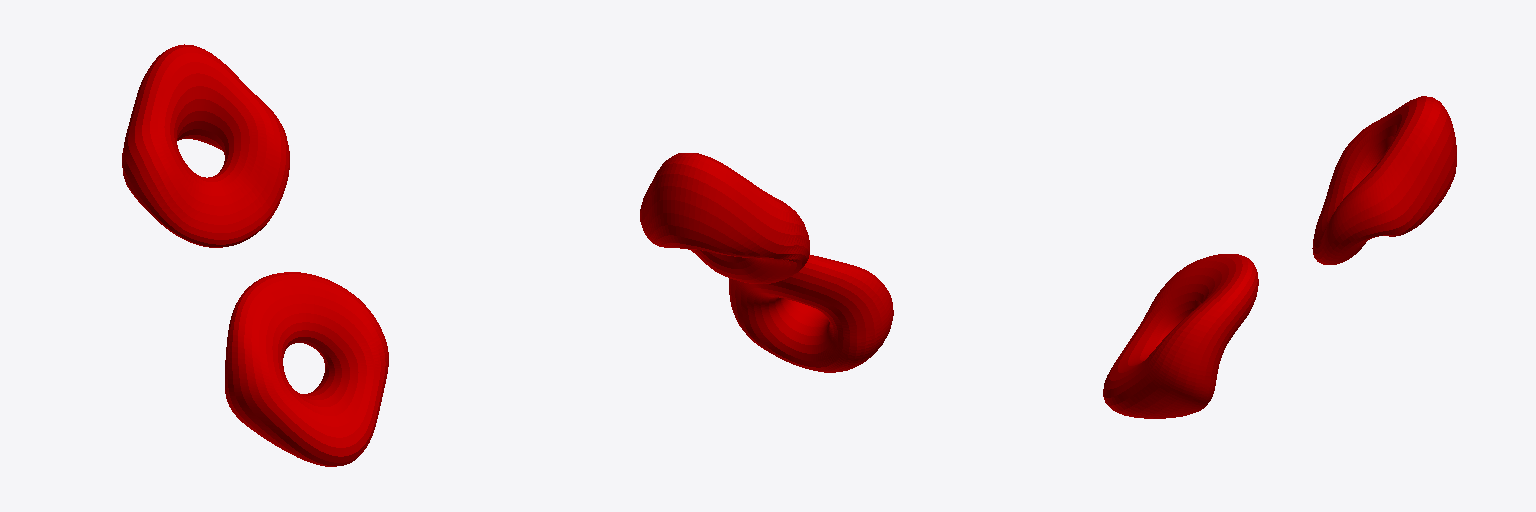
Rendered from (4)sex(r).obj.
3 views of the same model, side by side, from view 1: azimuth 30°, elevation 25°; view 2: azimuth 150°, elevation 25°; view 3: azimuth 270°, elevation 25° (orthographic).
Parts seen in each view (by area): view 1: red_Cylinder.009; view 2: red_Cylinder.009; view 3: red_Cylinder.009.
Boxes of the visible parts, <box> form: red_Cylinder.009: <box>122,44,388,466</box>; red_Cylinder.009: <box>640,153,893,372</box>; red_Cylinder.009: <box>1103,96,1456,418</box>.
Bounding box in the file's own units: 0.4755 × 0.8693 × 0.8988.